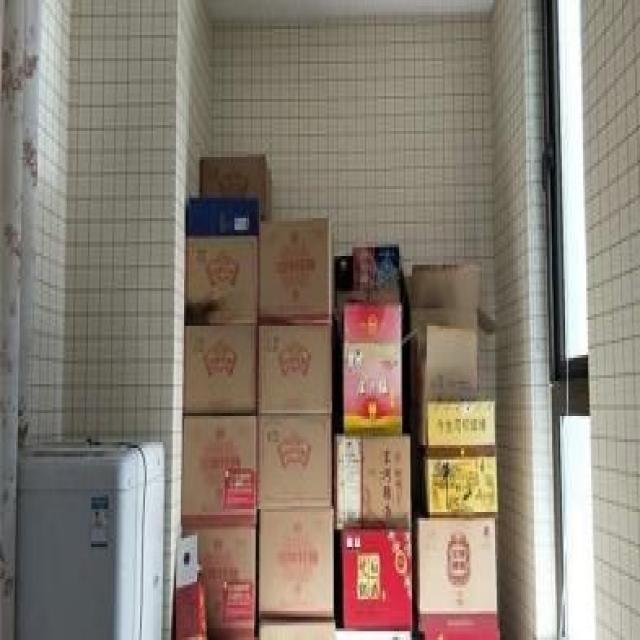box: (402, 262, 499, 452), (331, 245, 411, 438), (409, 398, 499, 517), (417, 515, 498, 637), (180, 524, 256, 637), (181, 411, 256, 523), (258, 509, 333, 616), (344, 301, 402, 437), (340, 529, 414, 630), (335, 434, 411, 532), (258, 218, 330, 317), (258, 414, 330, 510), (257, 322, 331, 415), (183, 233, 258, 324), (184, 323, 256, 413), (199, 153, 274, 219), (187, 196, 259, 234), (257, 621, 335, 637)
